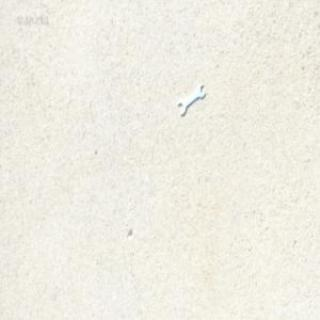Wrenchtrack_idkeyframe: (177, 85, 203, 115)
